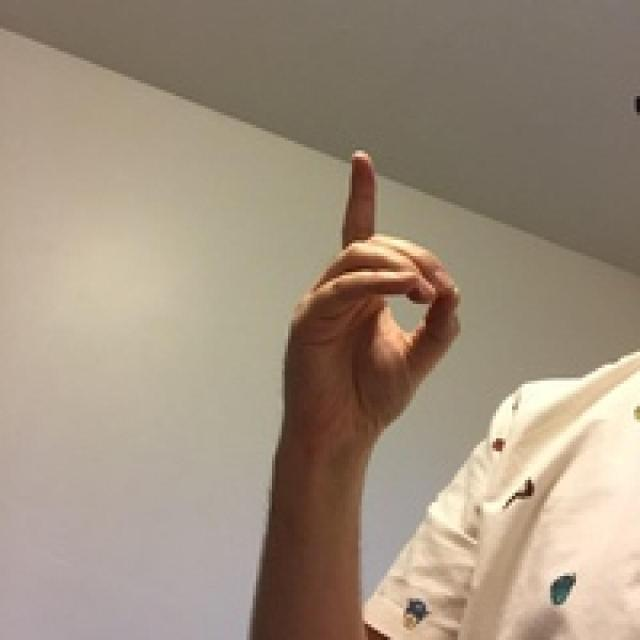D: (242, 74, 497, 460)
